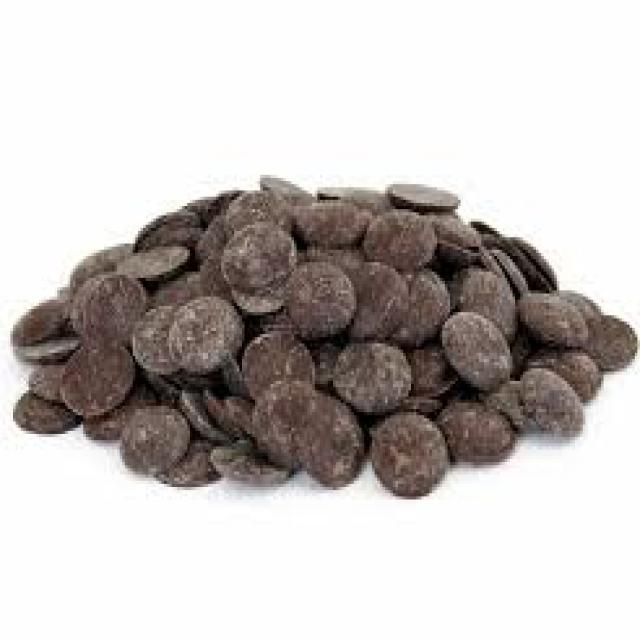chocolate: (10, 168, 640, 500)
